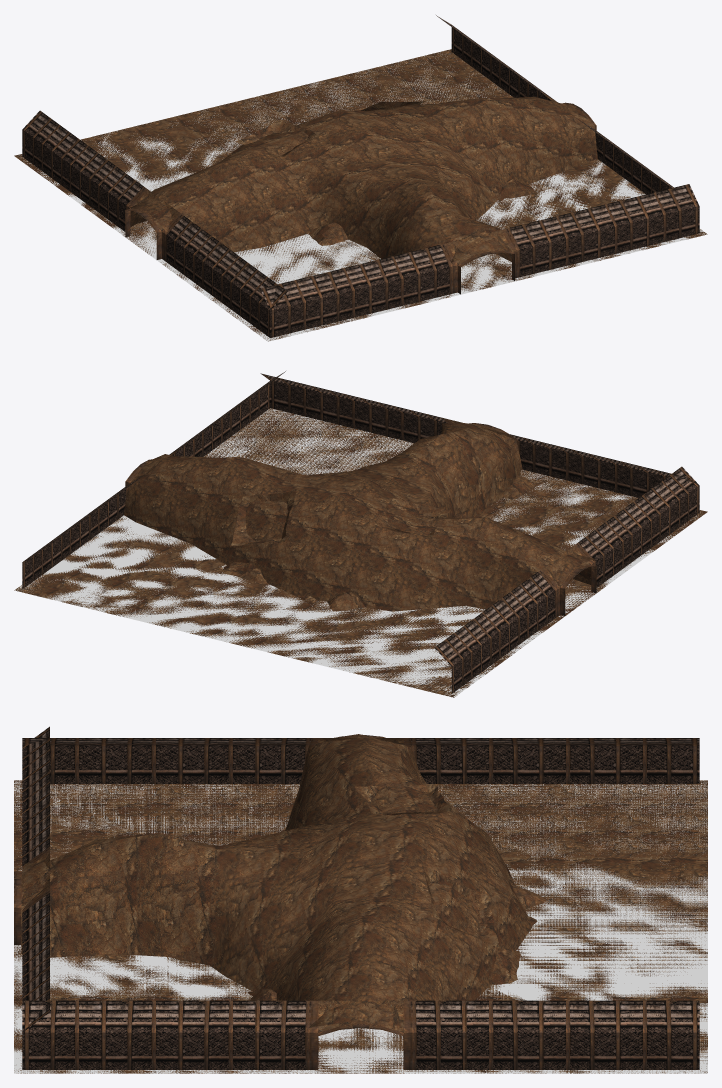
Rendered from lvl9_mesh.gltf.
3 views of the same model, one above another, from view 1: azimuth 30°, elevation 25°; view 2: azimuth 150°, elevation 25°; view 3: azimuth 270°, elevation 25° (orthographic). The views are drawn at different scales.
Visible parts, largest first — view 1: ceiling-col.007, ground.010, walls.002-col.006, ground_coll-colonly.006, walls-col.005, walls.001-col.004, ground_prop.017-convcol, ground_prop.011; view 2: ceiling-col.007, ground.010, ground_coll-colonly.006, walls-col.005, walls.002-col.006, walls.001-col.004, ground_prop.016-convcol, ground_prop.017-convcol, ground_prop.013; view 3: ceiling-col.007, ground.010, walls.001-col.004, ground_coll-colonly.006, walls-col.005, walls.002-col.006, ground_prop.016-convcol, ground_prop.017-convcol, ground_prop.013.
Boxes of the visible parts, x1=… form: ceiling-col.007: x1=130, y1=96, x2=597, y2=294; ground.010: x1=14, y1=49, x2=707, y2=341; walls.002-col.006: x1=260, y1=184, x2=699, y2=337; ground_coll-colonly.006: x1=19, y1=51, x2=707, y2=341; walls-col.005: x1=22, y1=110, x2=287, y2=337; walls.001-col.004: x1=436, y1=15, x2=695, y2=203; ground_prop.017-convcol: x1=236, y1=120, x2=319, y2=157; ground_prop.011: x1=308, y1=222, x2=348, y2=245; ceiling-col.007: x1=124, y1=423, x2=594, y2=611; ground.010: x1=14, y1=408, x2=707, y2=697; ground_coll-colonly.006: x1=15, y1=408, x2=700, y2=697; walls-col.005: x1=434, y1=466, x2=699, y2=693; walls.002-col.006: x1=260, y1=373, x2=698, y2=497; walls.001-col.004: x1=22, y1=371, x2=285, y2=589; ground_prop.016-convcol: x1=231, y1=491, x2=296, y2=545; ground_prop.017-convcol: x1=375, y1=498, x2=450, y2=537; ground_prop.013: x1=222, y1=562, x2=267, y2=584; ceiling-col.007: x1=21, y1=734, x2=532, y2=1032; ground.010: x1=14, y1=780, x2=707, y2=1073; walls.001-col.004: x1=22, y1=1000, x2=699, y2=1069; ground_coll-colonly.006: x1=14, y1=780, x2=707, y2=1073; walls-col.005: x1=22, y1=734, x2=699, y2=783; walls.002-col.006: x1=14, y1=726, x2=49, y2=1031; ground_prop.016-convcol: x1=423, y1=864, x2=499, y2=947; ground_prop.017-convcol: x1=355, y1=783, x2=451, y2=815; ground_prop.013: x1=492, y1=948, x2=520, y2=984.
Size of the model in its own units: 41 by 7.17 by 41.
Materials: 4 (4 with a texture image).
